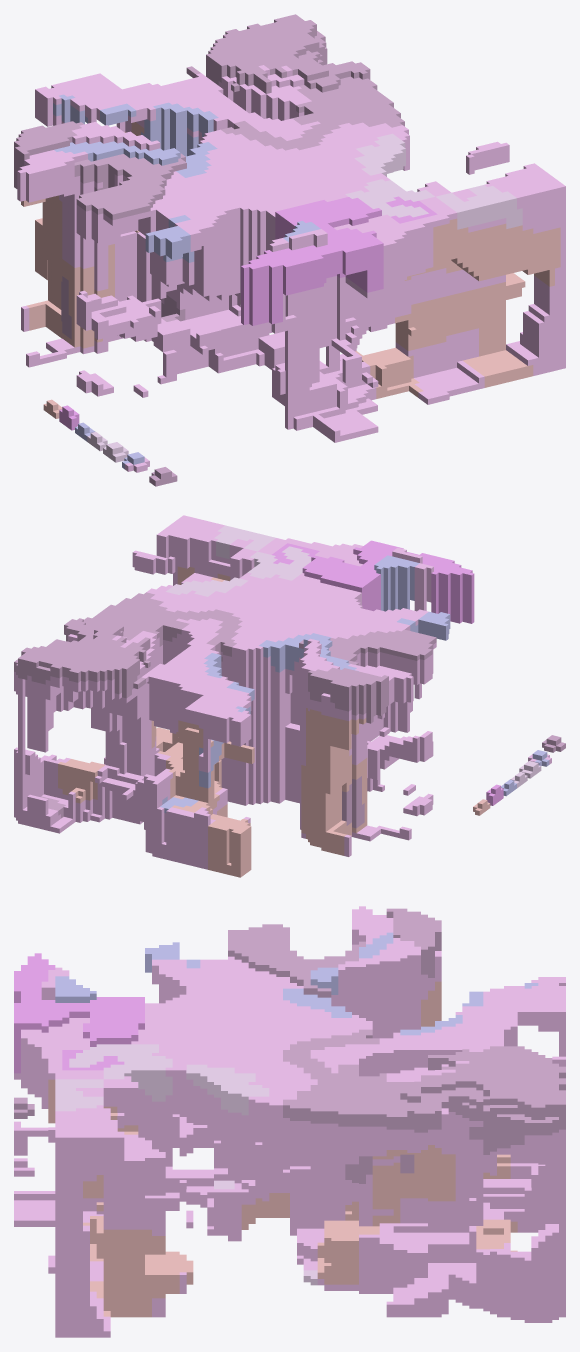
Rendered from map2.obj.
3 renders of one model, top to bottom at view 1: azimuth 30°, elevation 25°; view 2: azimuth 150°, elevation 25°; view 3: azimuth 270°, elevation 25°, orthographic. The views are drawn at different scales.
Bounding box in the file's own units: 80 × 35 × 80.
